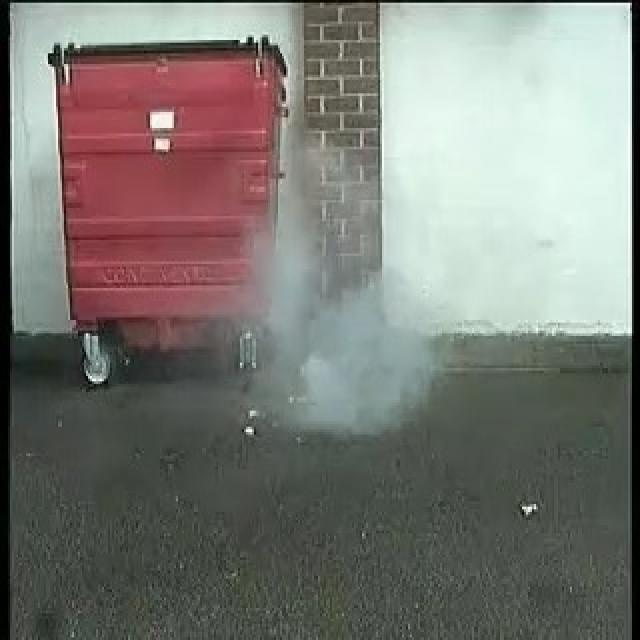smoke: (255, 188, 434, 428)
